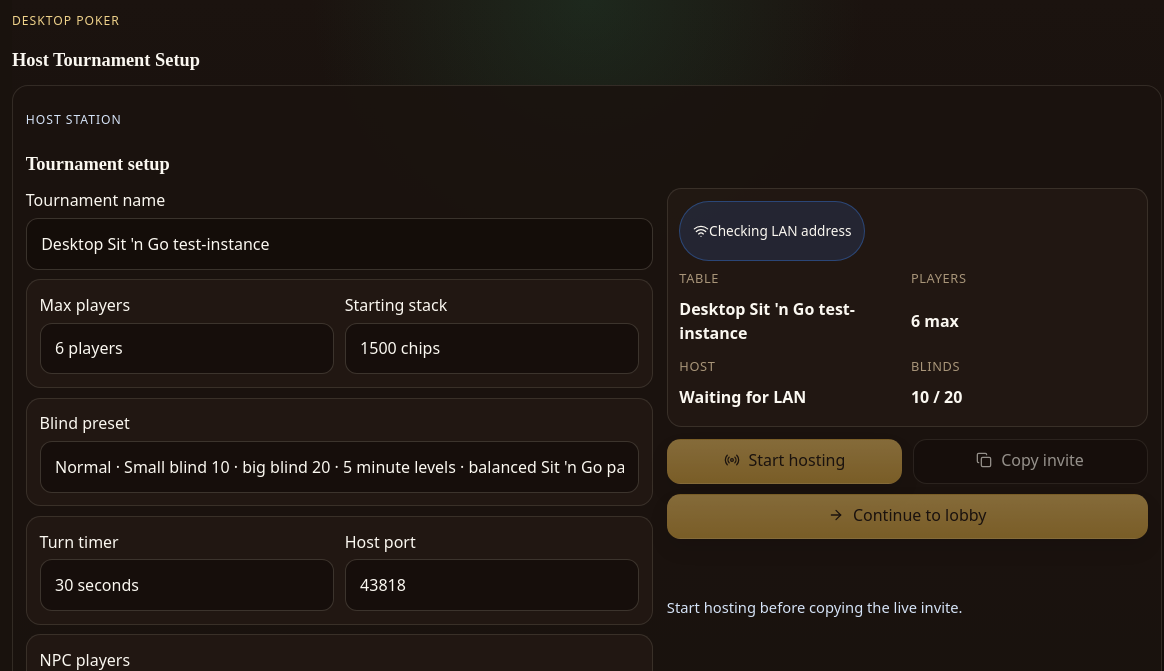
Test: HostTournamentSetupScreen › disables Start hosting and shows an error when tournament name is blank (F1)
The width and height of the screenshot is (1164, 671).
// Clear the tournament name
Clear the field labelled "Tournament name" at [340, 244], box x1=26 y1=218 x2=653 y2=270
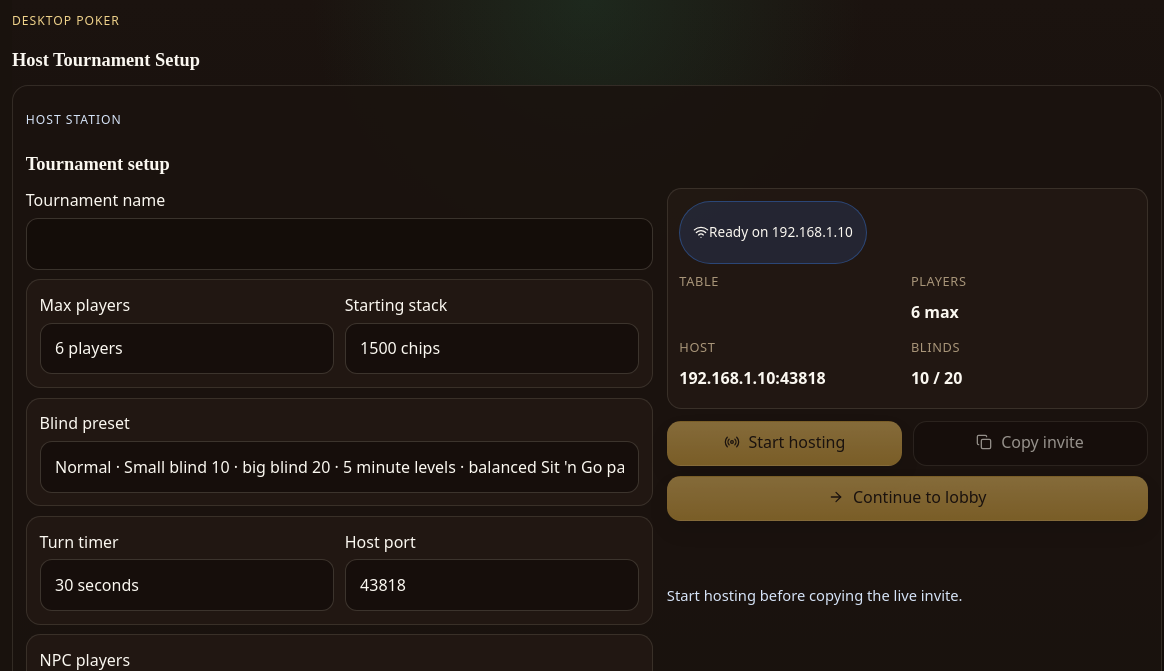
Leave the field labelled "Tournament name", box x1=26 y1=218 x2=653 y2=270
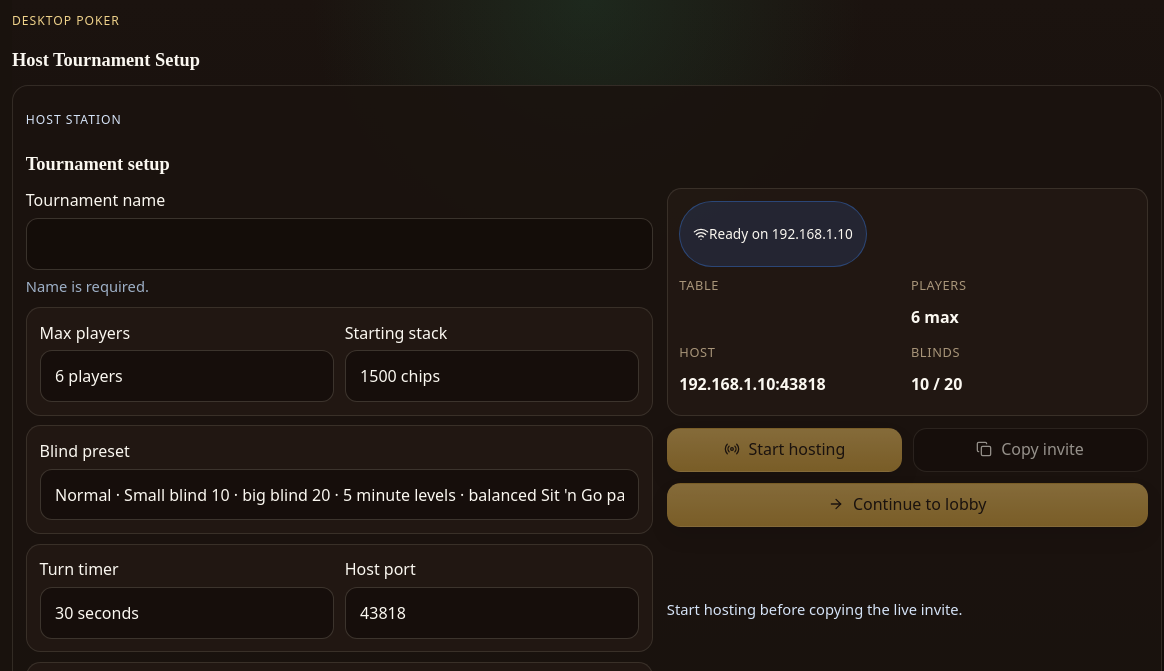
Expected: the button "Start hosting" is disabled, x1=667 y1=428 x2=902 y2=472
Expected: the text "Name is required." is shown, x1=26 y1=276 x2=149 y2=296
